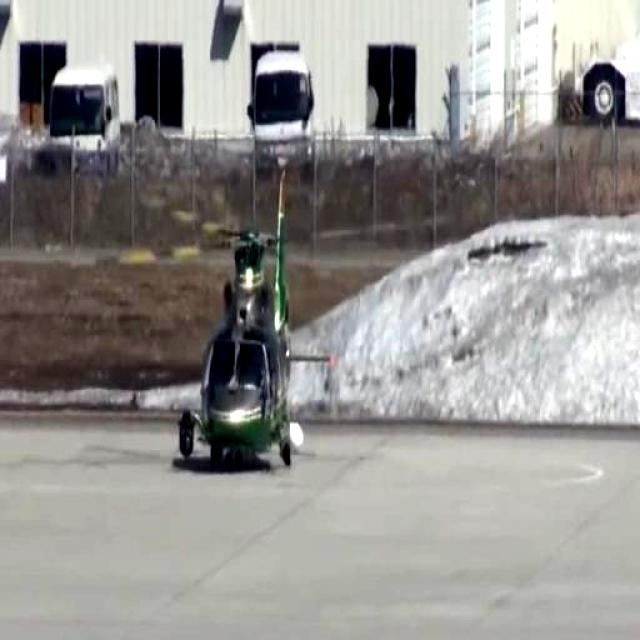drone: (170, 172, 329, 474)
